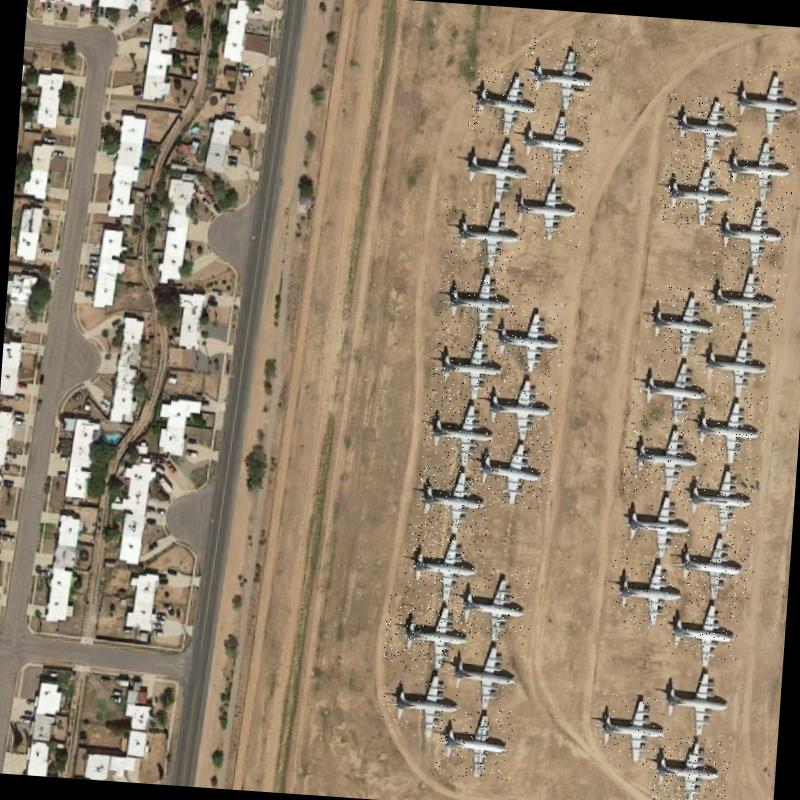A9: (435, 260, 524, 344), (382, 592, 473, 674), (620, 412, 707, 497), (401, 523, 486, 608), (378, 660, 462, 744), (488, 294, 568, 382), (452, 564, 534, 648), (440, 197, 525, 276), (520, 32, 598, 118), (658, 655, 736, 740), (589, 690, 670, 770), (704, 262, 786, 340), (432, 704, 515, 780), (474, 432, 554, 510), (442, 636, 524, 711), (695, 327, 775, 402), (606, 556, 686, 631), (420, 392, 497, 469), (484, 367, 558, 447), (518, 101, 591, 182), (720, 132, 796, 209), (415, 460, 492, 536), (644, 282, 716, 363), (730, 57, 800, 140), (688, 388, 764, 464), (617, 489, 696, 562), (684, 461, 760, 536), (511, 172, 586, 248), (430, 328, 506, 403), (456, 132, 533, 206), (658, 156, 734, 230), (680, 530, 756, 604), (663, 595, 740, 668), (712, 198, 790, 270), (630, 352, 706, 425), (648, 734, 731, 800), (664, 93, 742, 160), (466, 67, 538, 137)
